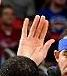down: (17, 14, 56, 59)
